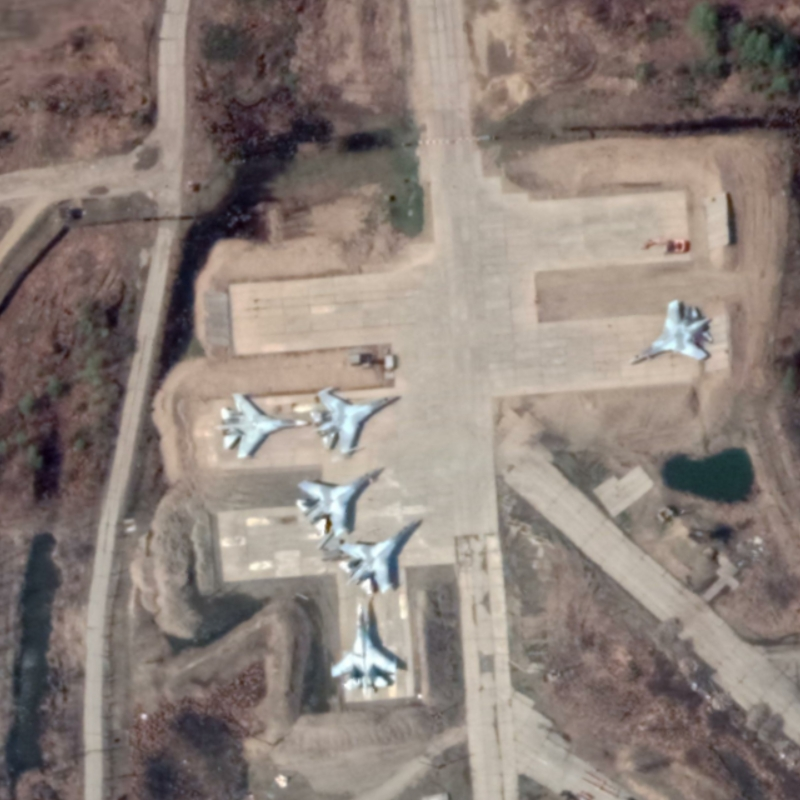A1: (335, 516, 428, 600), (327, 594, 400, 699), (310, 384, 404, 460), (213, 391, 311, 463), (292, 463, 382, 540), (625, 297, 716, 369)
